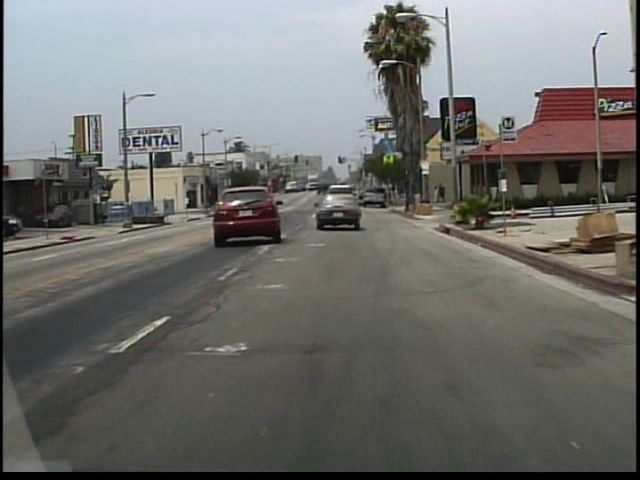person: (439, 182, 447, 203), (432, 184, 439, 205)
